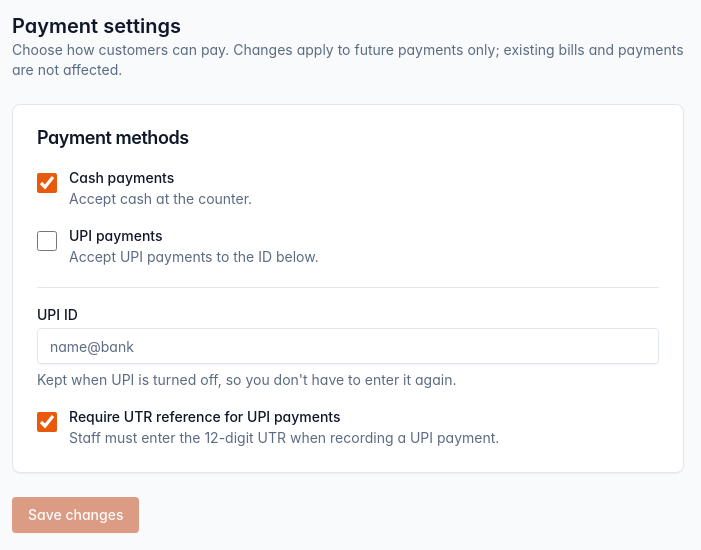
Test: OrganizationPaymentSettingsPage › Owner (settings.payments.manage) — editable › loads the values into editable controls; Save is disabled until something changes
Expected: the checkbox labelled "Cash payments" is enabled, [37, 173, 57, 193]
Expected: the button "Save changes" is disabled, [12, 497, 140, 533]
Click the checkbox labelled "Require UTR reference for UPI payments" at (47, 422), box [37, 412, 57, 432]
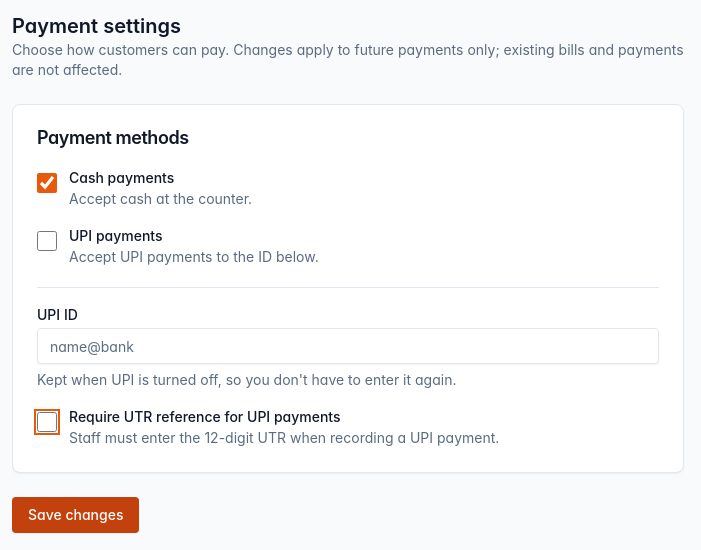
Expected: the button "Save changes" is enabled, [12, 497, 140, 533]
Click the checkbox labelled "Require UTR reference for UPI payments" at (47, 422), box [37, 412, 57, 432]
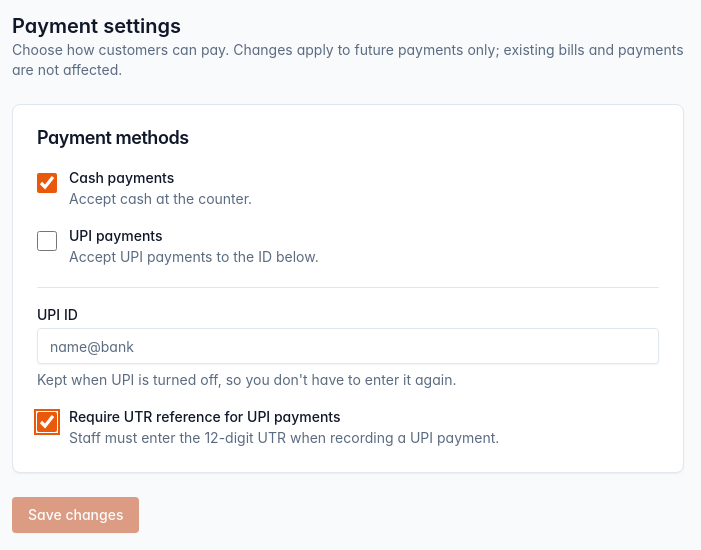
Expected: the button "Save changes" is disabled, [12, 497, 140, 533]
